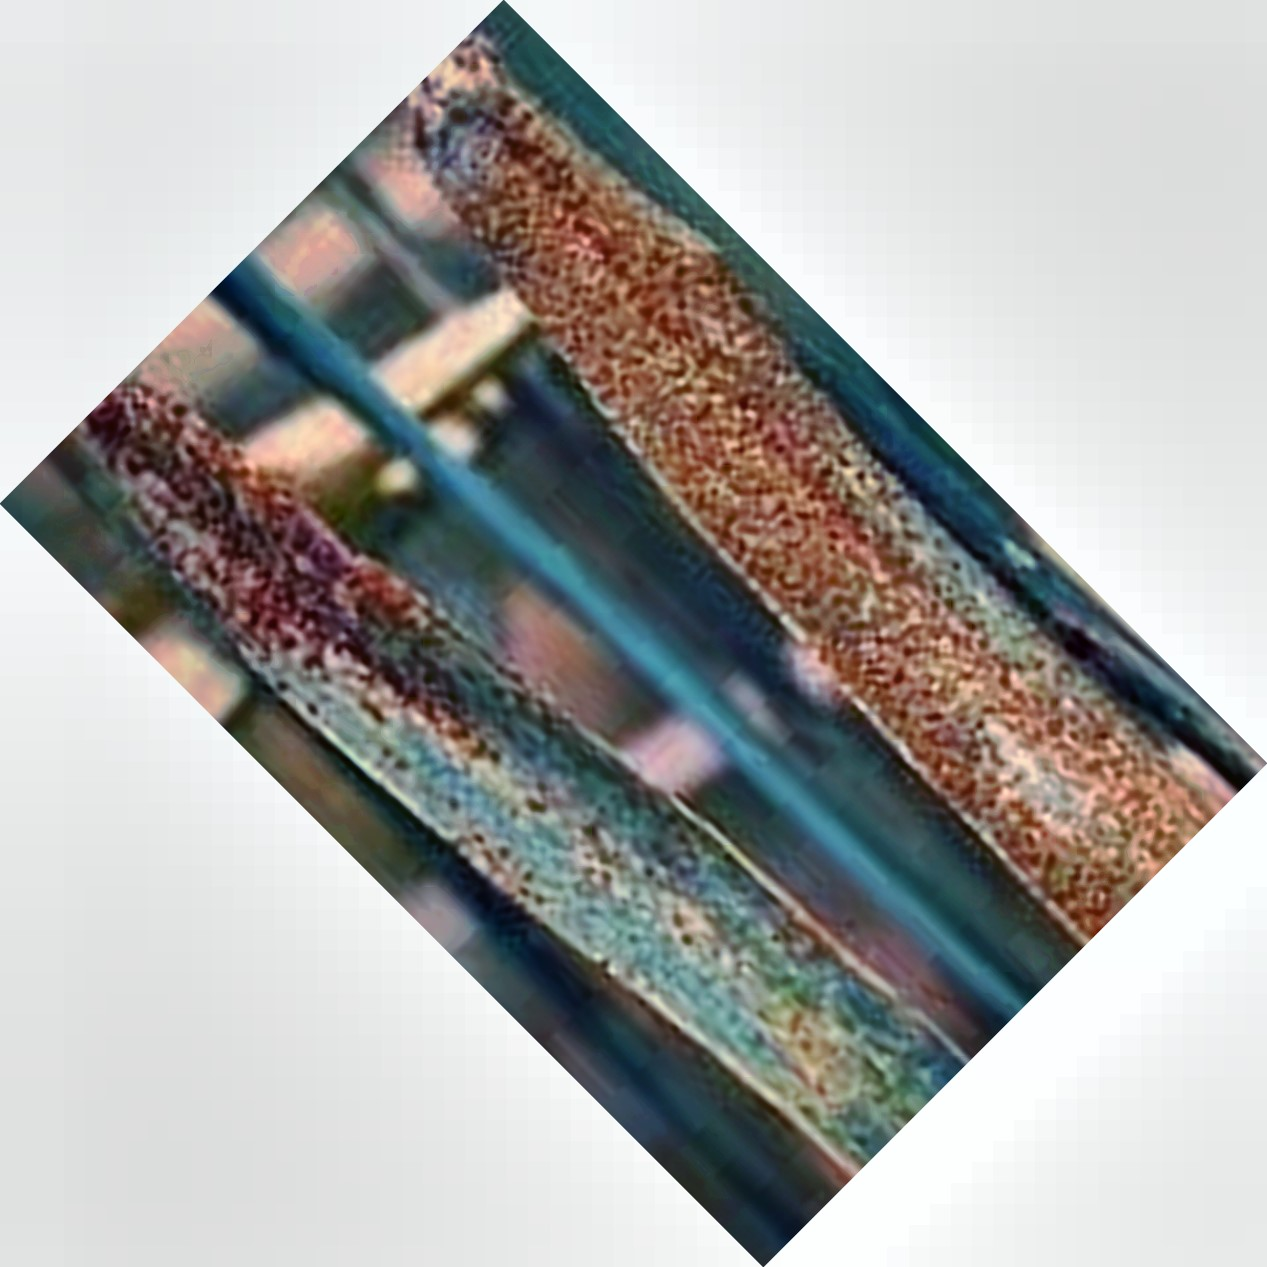Leaf Rust: (501, 184, 1154, 884)
